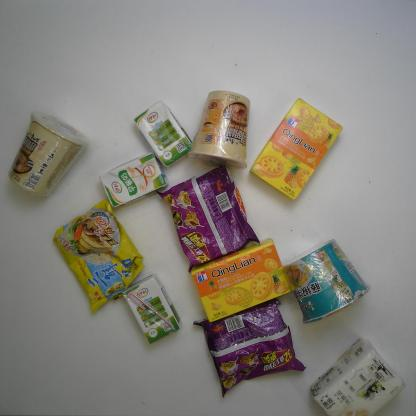Dessert: (251, 99, 344, 198), (190, 239, 292, 321)
Instant Noodles: (194, 299, 303, 397), (57, 200, 145, 307), (164, 169, 254, 262), (285, 230, 368, 329), (8, 109, 82, 199), (190, 88, 253, 165)
Milk: (99, 154, 173, 208), (134, 102, 192, 170), (126, 276, 179, 346)
Tissue: (302, 335, 402, 412)
